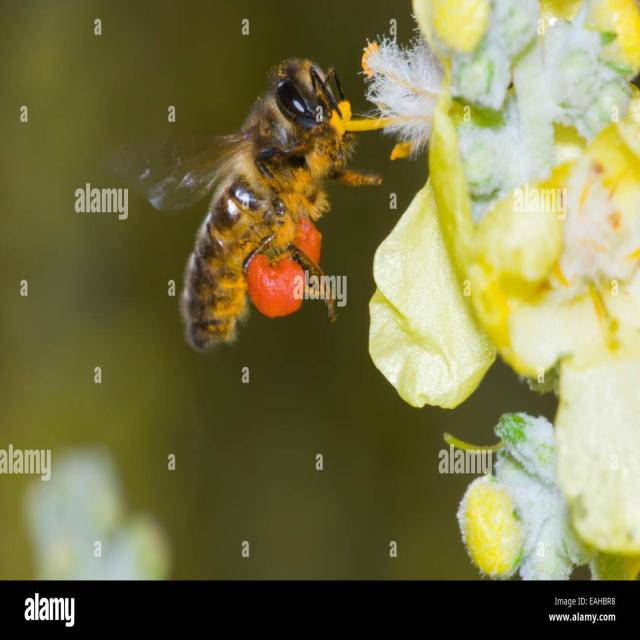honeybee: (153, 25, 357, 330)
